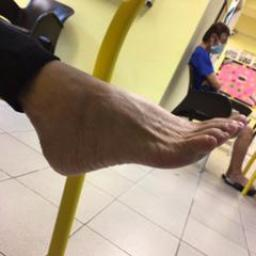Lateral View -Right Foot-: (17, 55, 252, 189)
